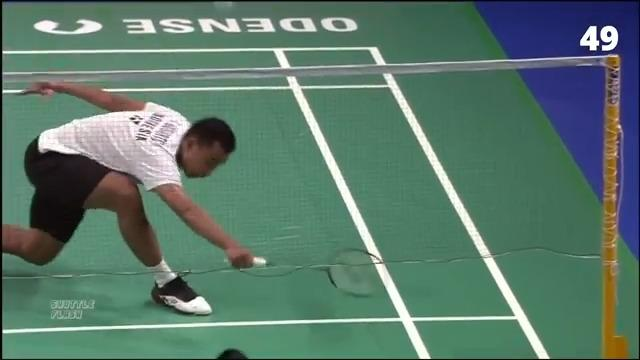Shuttlecock: (212, 0, 238, 14)
